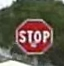stop: (13, 16, 53, 54)
